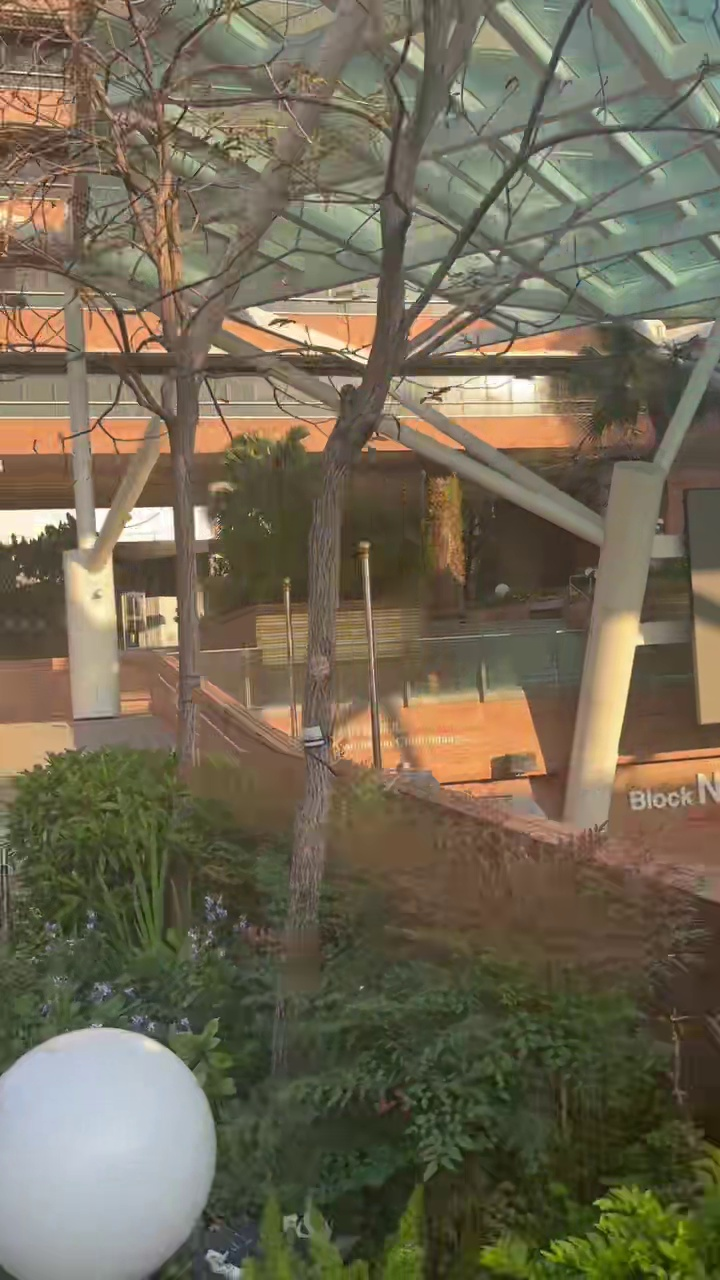Tabebuia chrysantha: (273, 0, 585, 1066)
